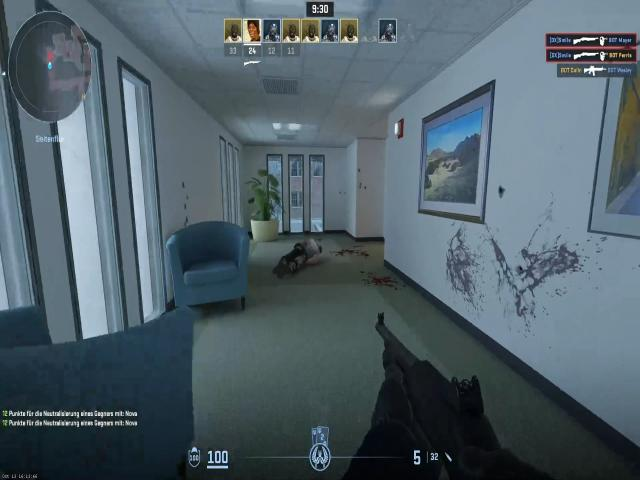Dead: (285, 235, 324, 274)
